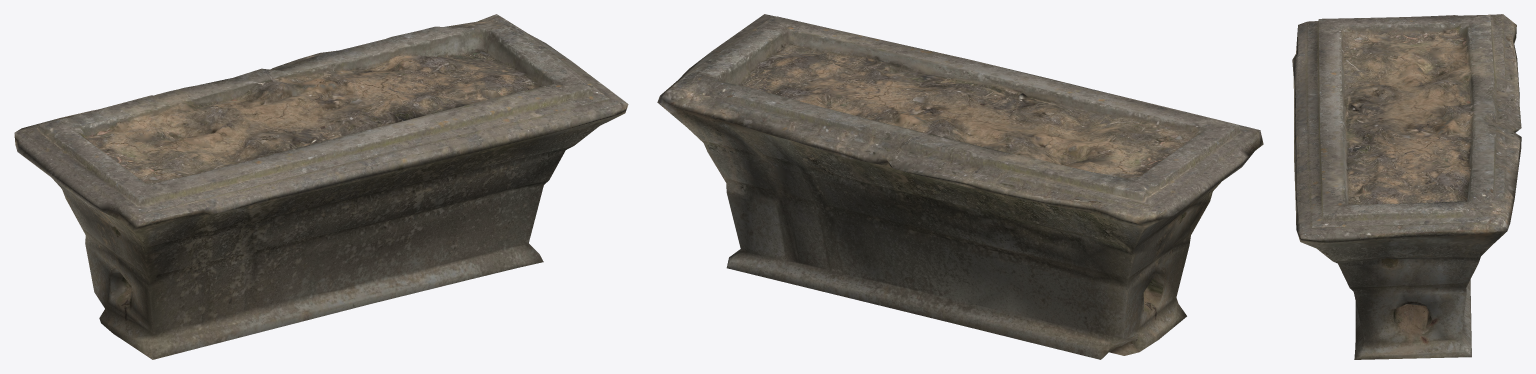
The model's file is PX_Discarded_Flower_Pot_01_LOD5.fbx.
The picture shows the model from 3 angles, left to right: view 1: azimuth 30°, elevation 25°; view 2: azimuth 150°, elevation 25°; view 3: azimuth 270°, elevation 25°; orthographic projection. The views are drawn at different scales.
Visible parts, largest first — view 1: PX_Discarded_Flower_Pot_01_LOD5; view 2: PX_Discarded_Flower_Pot_01_LOD5; view 3: PX_Discarded_Flower_Pot_01_LOD5.
Part boxes in pixels (bbox=[...]): PX_Discarded_Flower_Pot_01_LOD5: bbox=[14, 14, 628, 359]; PX_Discarded_Flower_Pot_01_LOD5: bbox=[657, 14, 1263, 359]; PX_Discarded_Flower_Pot_01_LOD5: bbox=[1292, 14, 1521, 359].
Size of the model in its own units: 150 by 53.12 by 66.2.
